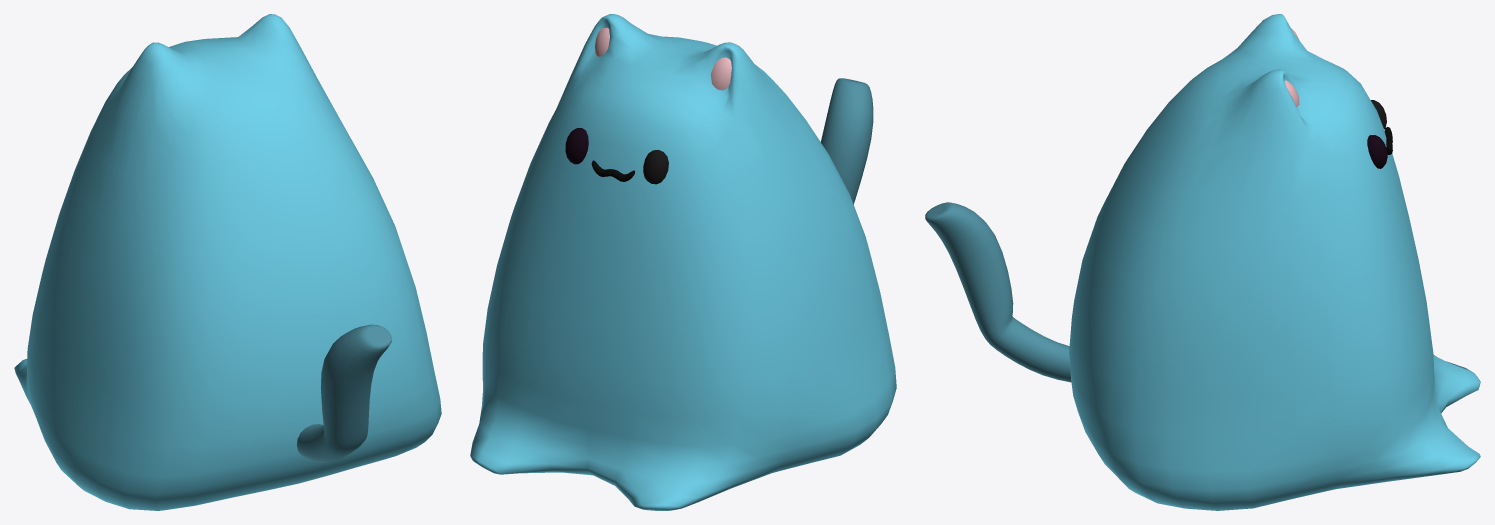
File: cat_blue.fbx
3 renders of one model, left to right at view 1: azimuth 30°, elevation 25°; view 2: azimuth 150°, elevation 25°; view 3: azimuth 270°, elevation 25°, orthographic. The views are drawn at different scales.
Parts seen in each view (by area): view 1: head, tail; view 2: head, tail, eye1.001, eye, eye1; view 3: head, tail.
Part boxes in pixels (<box>): head: <box>14,14,441,510</box>; tail: <box>297,324,391,462</box>; head: <box>470,14,896,510</box>; tail: <box>821,78,873,204</box>; eye1.001: <box>595,27,731,90</box>; eye: <box>643,150,668,184</box>; eye1: <box>565,128,588,164</box>; head: <box>1069,14,1480,510</box>; tail: <box>925,202,1071,382</box>.
Bounding box in the file's own units: 317 × 357 × 447.
